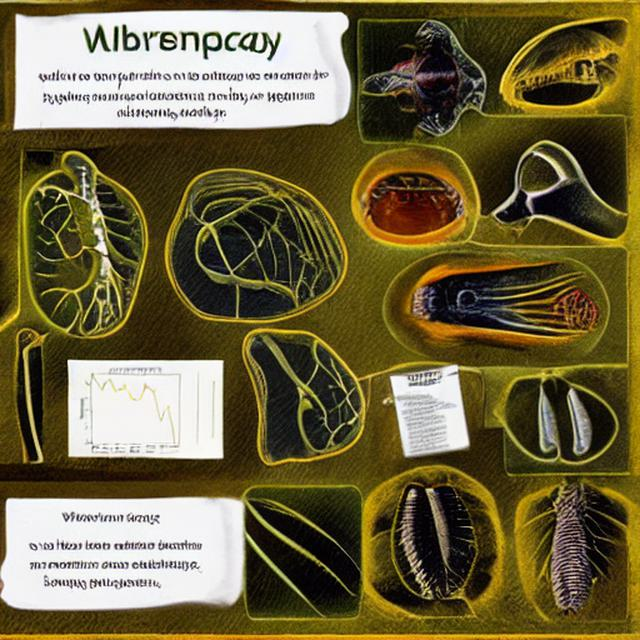Graph: (73, 363, 194, 454)
